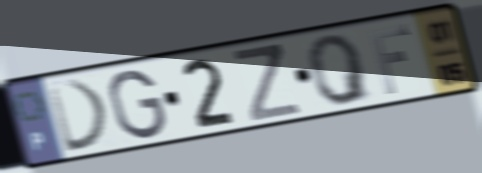2: (181, 56, 236, 130)
D: (44, 76, 113, 156)
F: (365, 22, 414, 98)
G: (106, 67, 170, 142)
Q: (304, 31, 377, 108)
Z: (230, 41, 304, 124)
